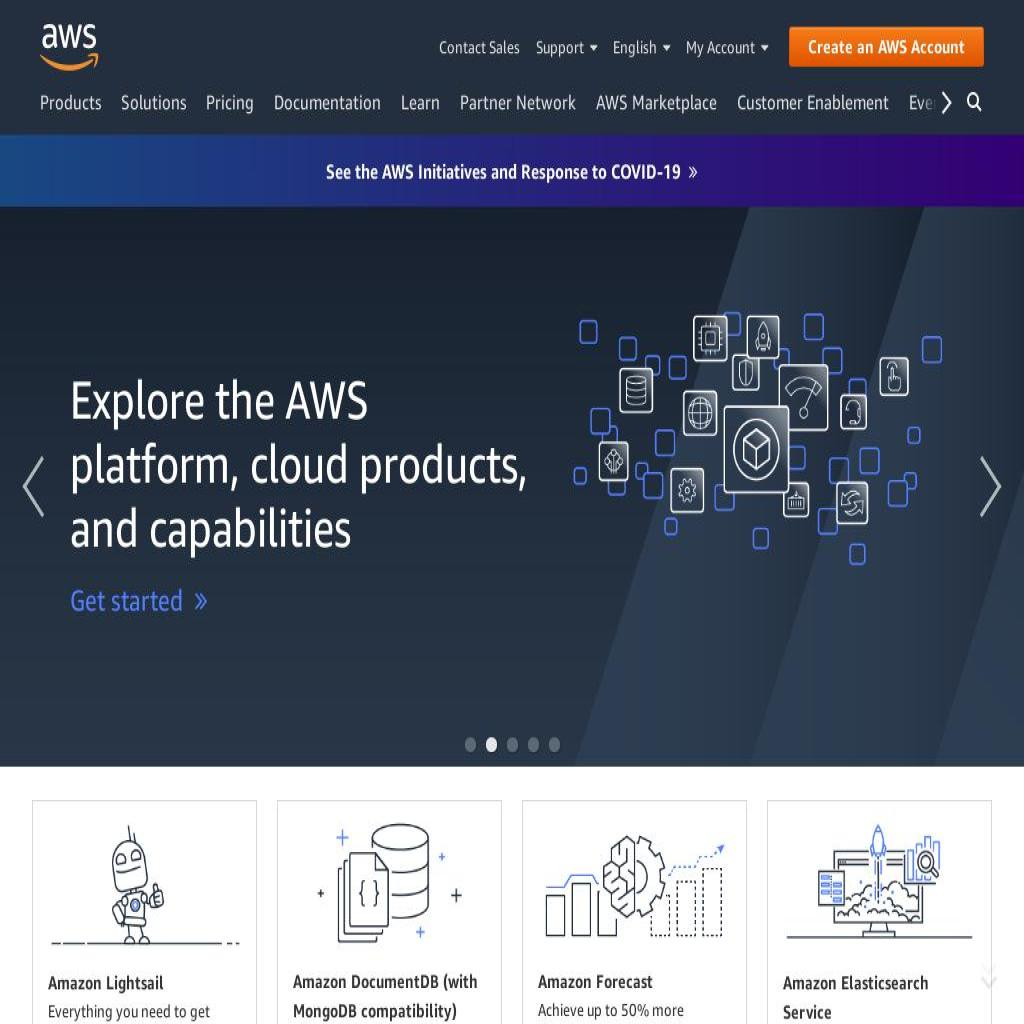button: (785, 27, 981, 68), (20, 442, 55, 542), (973, 448, 1006, 525)
checkbox: (657, 427, 676, 455), (580, 318, 600, 344)
dropdown: (683, 33, 774, 64), (531, 33, 605, 64), (612, 36, 676, 62)
icon: (672, 466, 706, 512), (875, 355, 907, 397), (960, 89, 980, 116), (939, 88, 954, 118), (942, 88, 953, 115)
label: (737, 83, 891, 121), (452, 85, 577, 121), (268, 85, 383, 121), (593, 85, 721, 116), (122, 86, 186, 118), (431, 39, 521, 61), (205, 87, 258, 120), (38, 91, 101, 116), (400, 88, 443, 116)
